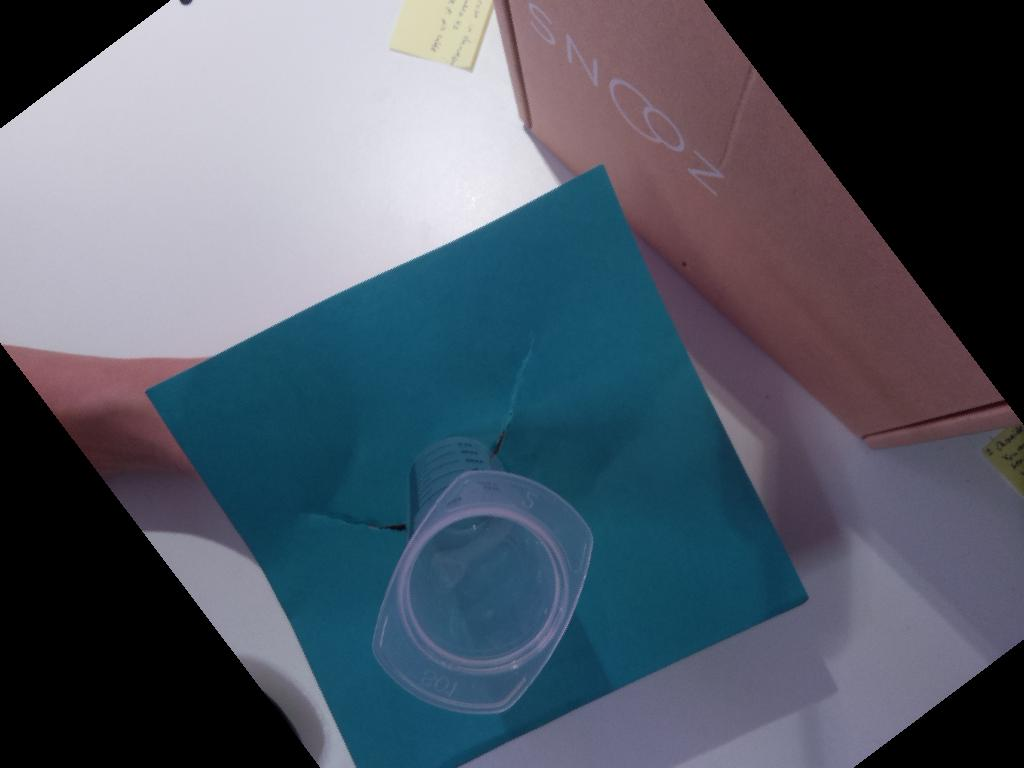clean: (368, 473, 595, 716)
